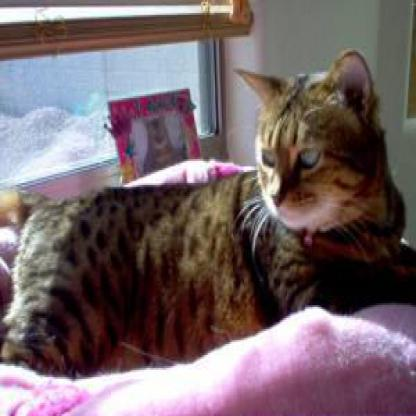cat: (1, 50, 414, 381)
